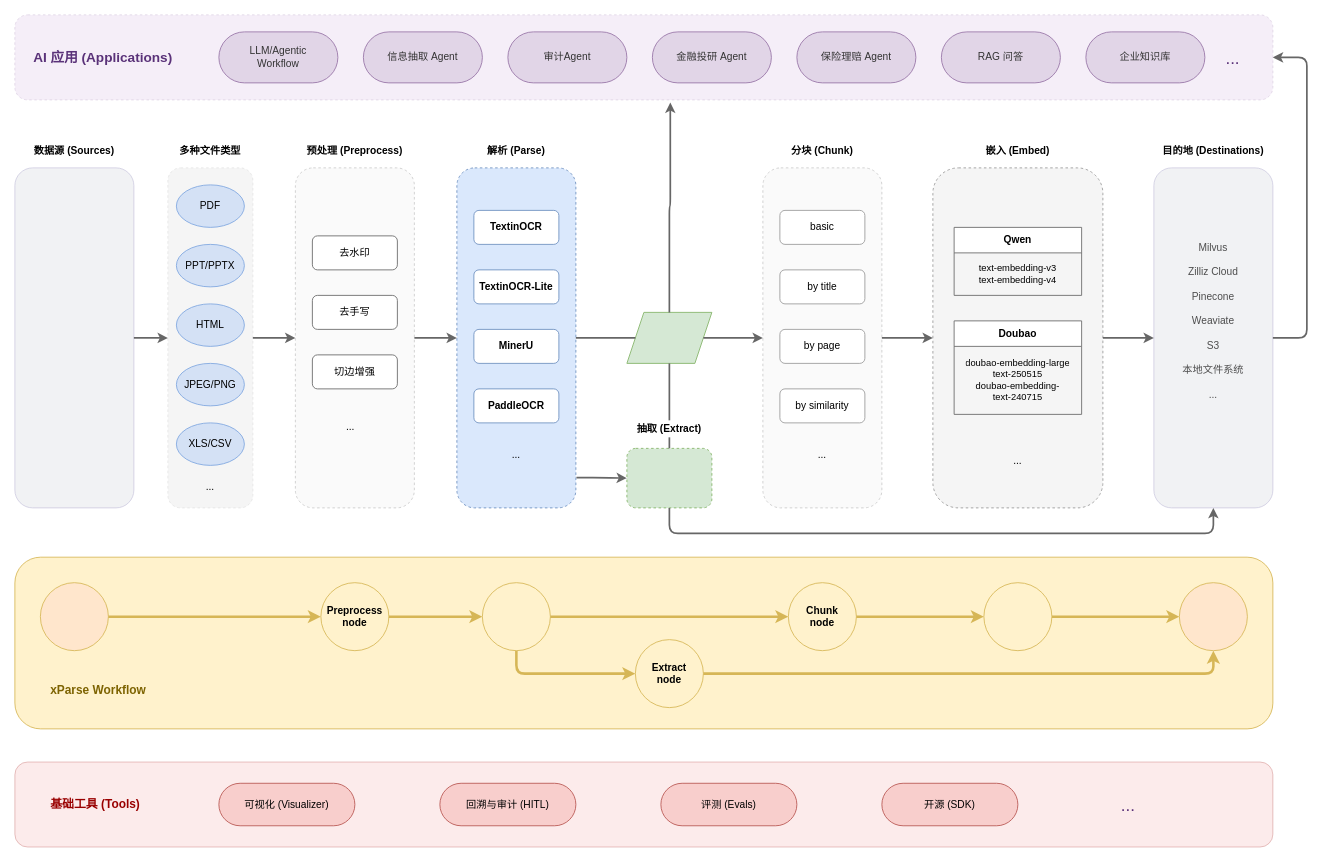
Image size: 1329x862. Some labels were removed from this diagram. The shapes that lost their labels are listed below. From the top down, each one's centre as x and y in pixels, then its label:
(x=74, y=337): AWS S3 MinIO 阿里云 OSS 腾讯云 COS 华为云 OBS 火山引擎 (VeCloud) SMB FTP 本地文件 ...
(x=669, y=337): JSON Markdown
(x=669, y=478): Key - Value
(x=74, y=616): Source node
(x=516, y=616): Parse node
(x=1017, y=616): Embed node
(x=1213, y=616): Destination node
